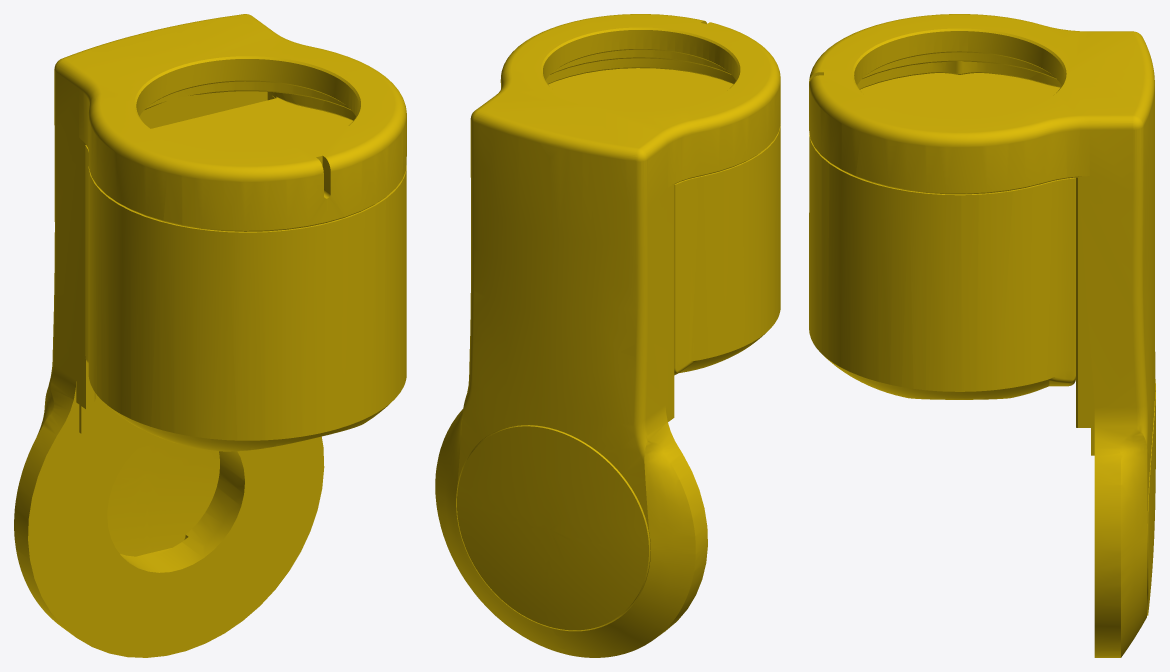
File: armr4.glb
3 views of the same model, side by side, from view 1: azimuth 30°, elevation 25°; view 2: azimuth 150°, elevation 25°; view 3: azimuth 270°, elevation 25° (orthographic). The views are drawn at different scales.
Parts seen in each view (by area): view 1: Mesh_0; view 2: Mesh_0; view 3: Mesh_0.
Boxes of the visible parts, x1=… form: Mesh_0: x1=14, y1=14, x2=406, y2=657; Mesh_0: x1=435, y1=14, x2=780, y2=657; Mesh_0: x1=809, y1=14, x2=1155, y2=657.
Size of the model in its own units: 0.086 by 0.167 by 0.0923.
